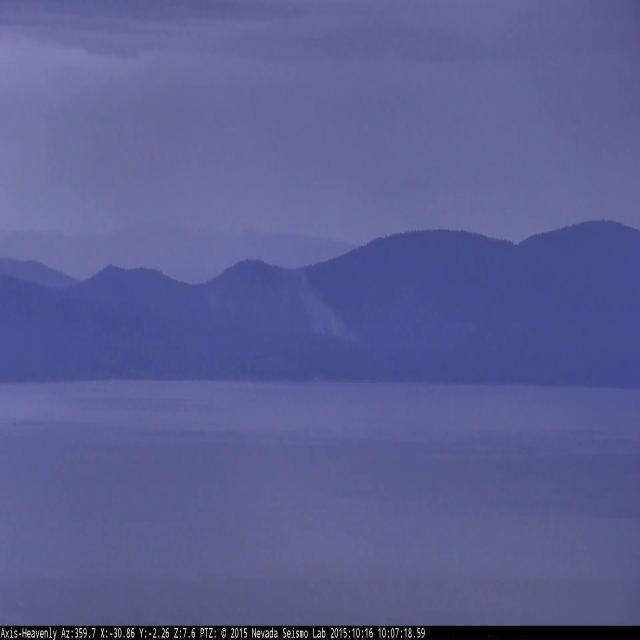smoke: (211, 219, 368, 349)
